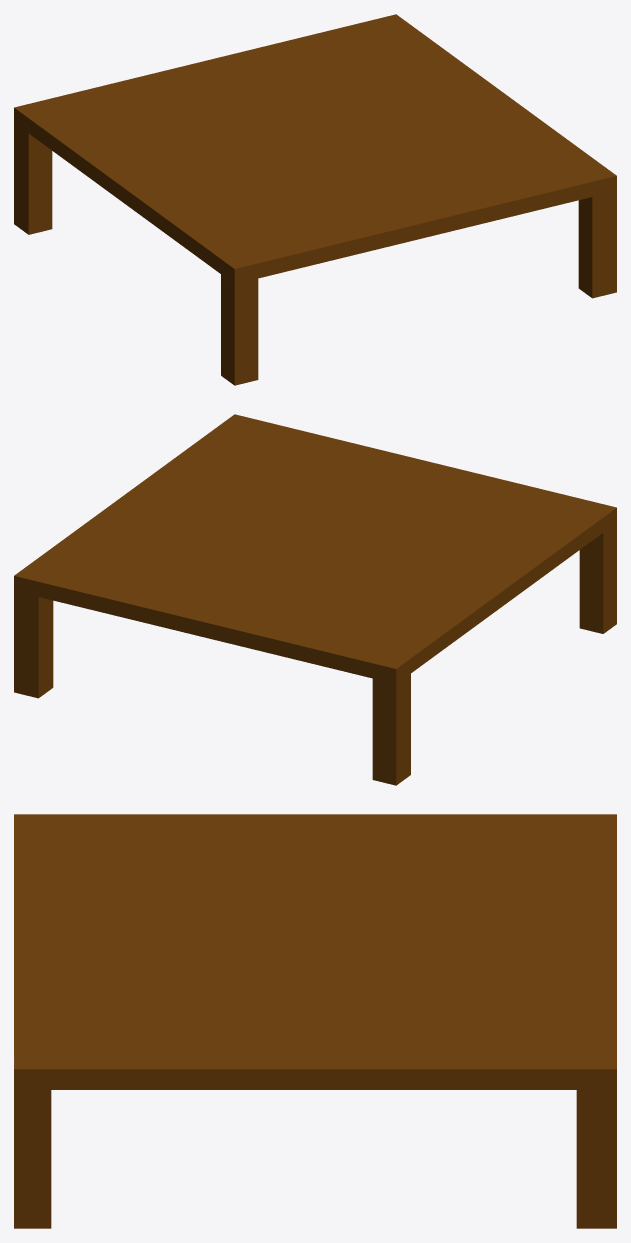
Rendered from CoffeeTable.fbx.
3 views of the same model, one above another, from view 1: azimuth 30°, elevation 25°; view 2: azimuth 150°, elevation 25°; view 3: azimuth 270°, elevation 25° (orthographic). The views are drawn at different scales.
Parts seen in each view (by area): view 1: CoffeeTable; view 2: CoffeeTable; view 3: CoffeeTable.
Part boxes in pixels (box(x1,y1,x2,y2)): CoffeeTable: box(14, 14, 616, 385); CoffeeTable: box(14, 414, 616, 785); CoffeeTable: box(14, 814, 616, 1228).
Size of the model in its own units: 156 by 45.56 by 156.
1 material, 1 textured.
